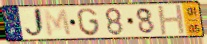8: (103, 7, 126, 37), (135, 6, 157, 35)
G: (76, 7, 102, 37)
H: (156, 4, 187, 37)
J: (24, 7, 47, 40)
M: (42, 8, 73, 38)
